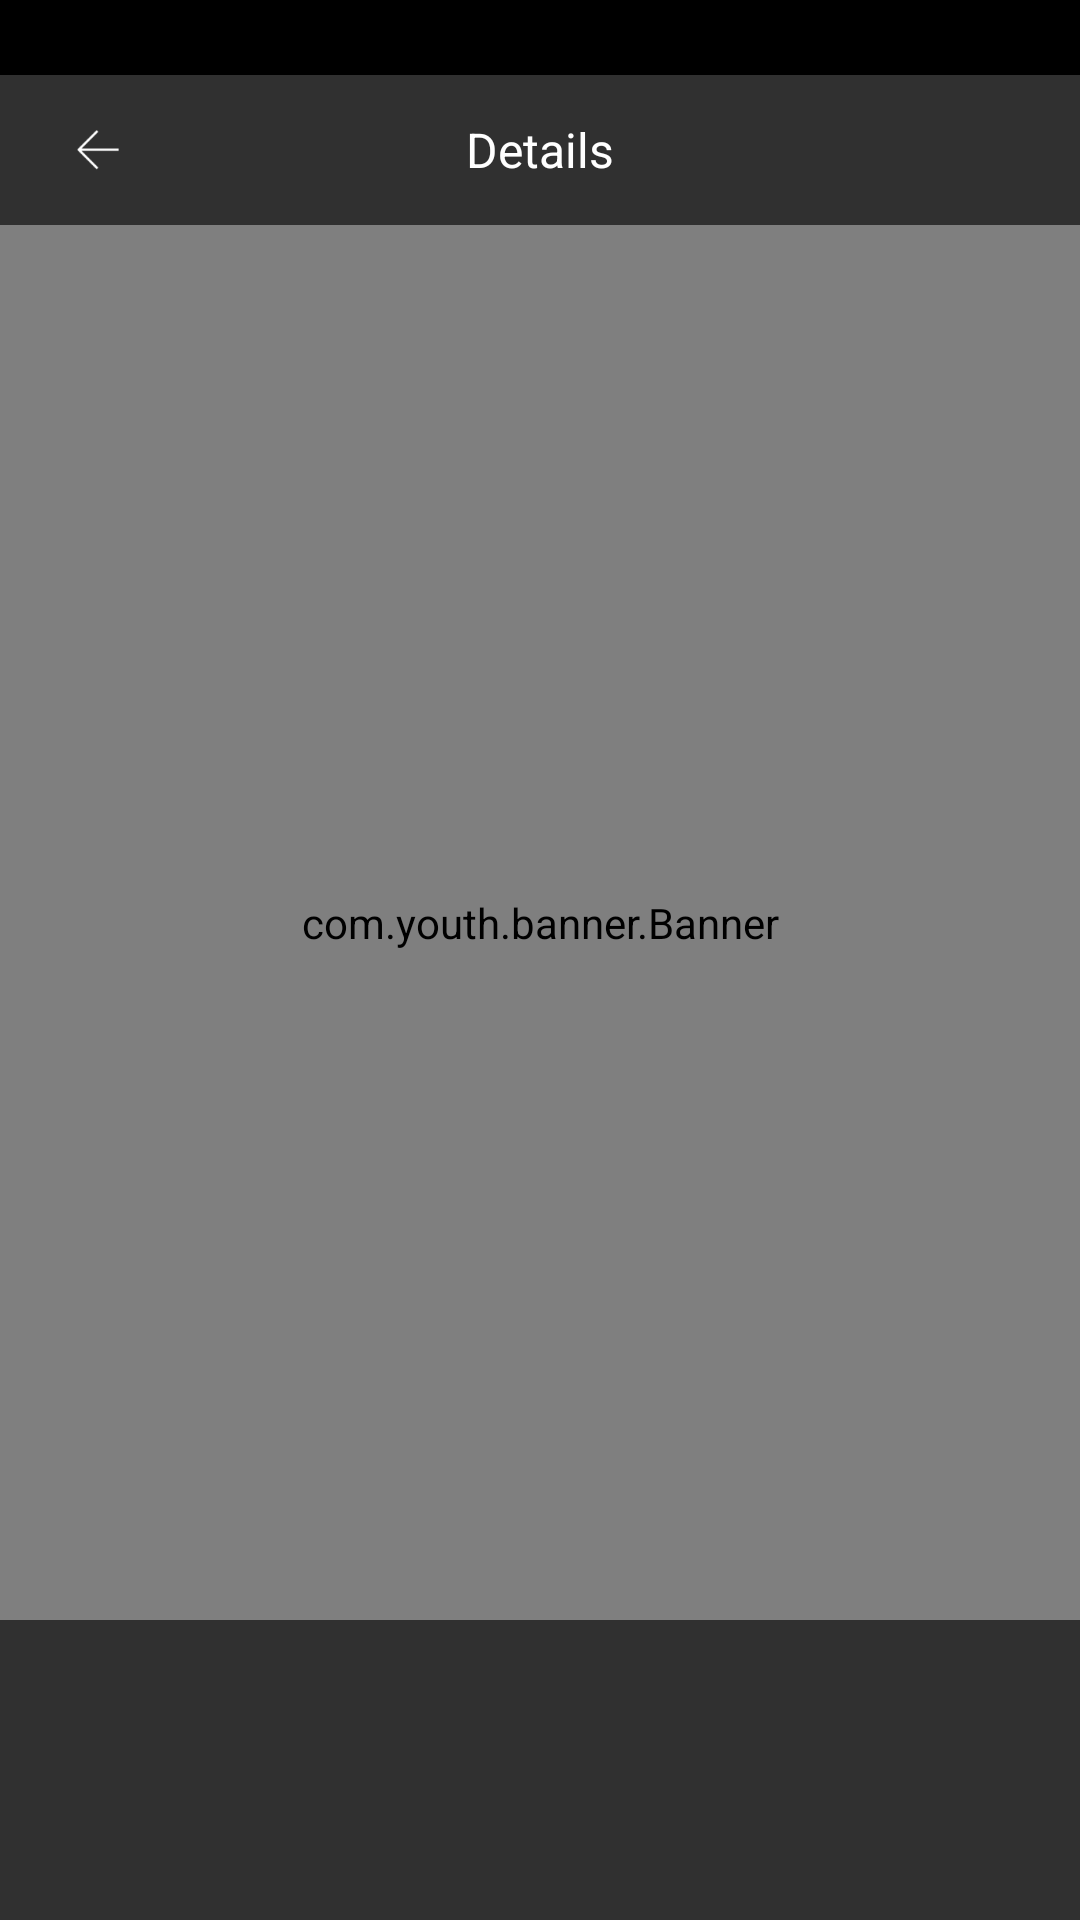

Icons on this 1080px×1920px Android screen, each with its box as (x1, y1, x2, y2):
back: (77, 130, 119, 169)
